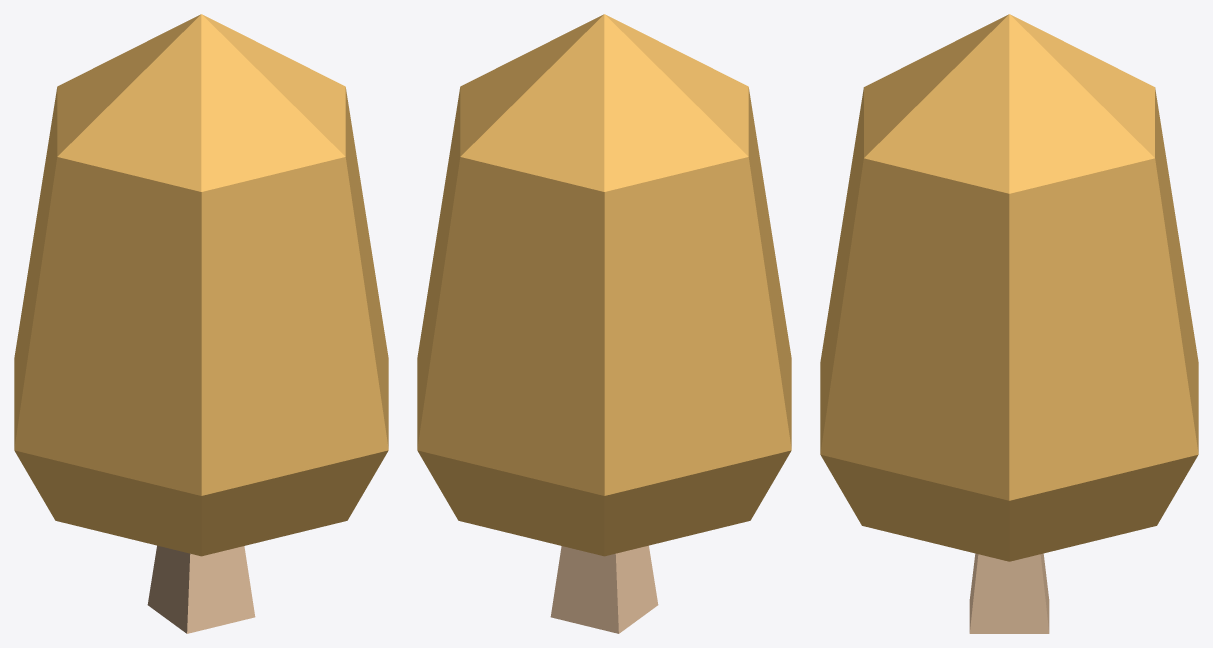
File: tree_short_fall.gltf
3 views of the same model, side by side, from view 1: azimuth 30°, elevation 25°; view 2: azimuth 150°, elevation 25°; view 3: azimuth 270°, elevation 25° (orthographic).
Visible parts, largest first — view 1: tree_short_fall; view 2: tree_short_fall; view 3: tree_short_fall.
Part boxes in pixels (x1=…): tree_short_fall: x1=14, y1=14, x2=388, y2=633; tree_short_fall: x1=417, y1=14, x2=791, y2=633; tree_short_fall: x1=820, y1=14, x2=1198, y2=633.
Size of the model in its own units: 0.755 by 1.15 by 0.6538.
